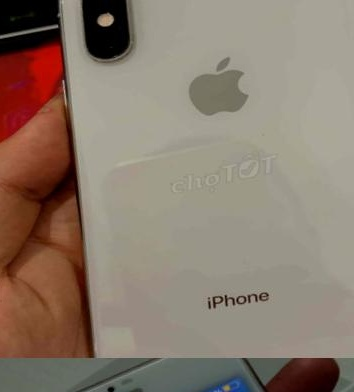scratch: (97, 43, 140, 64), (121, 34, 144, 52)
